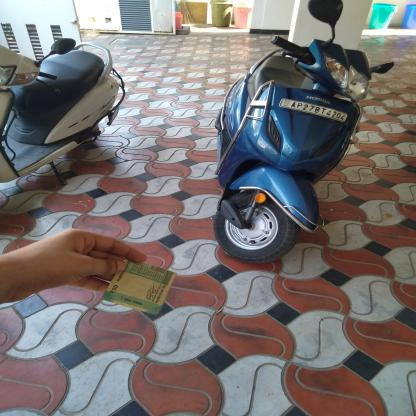New50Back: (97, 260, 173, 314)
